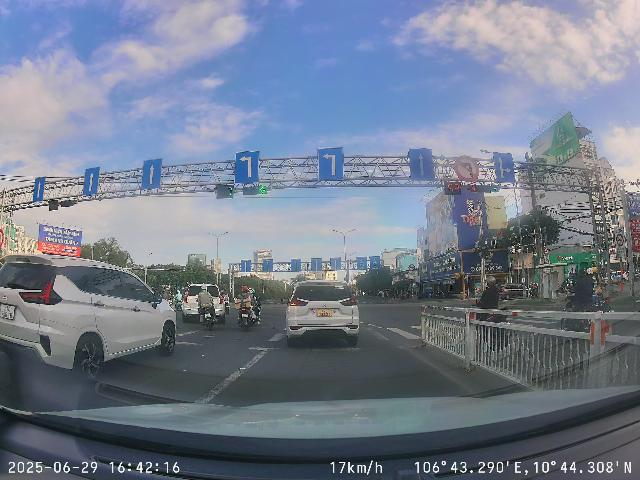123a-cam-re-trai: (454, 154, 480, 182)
